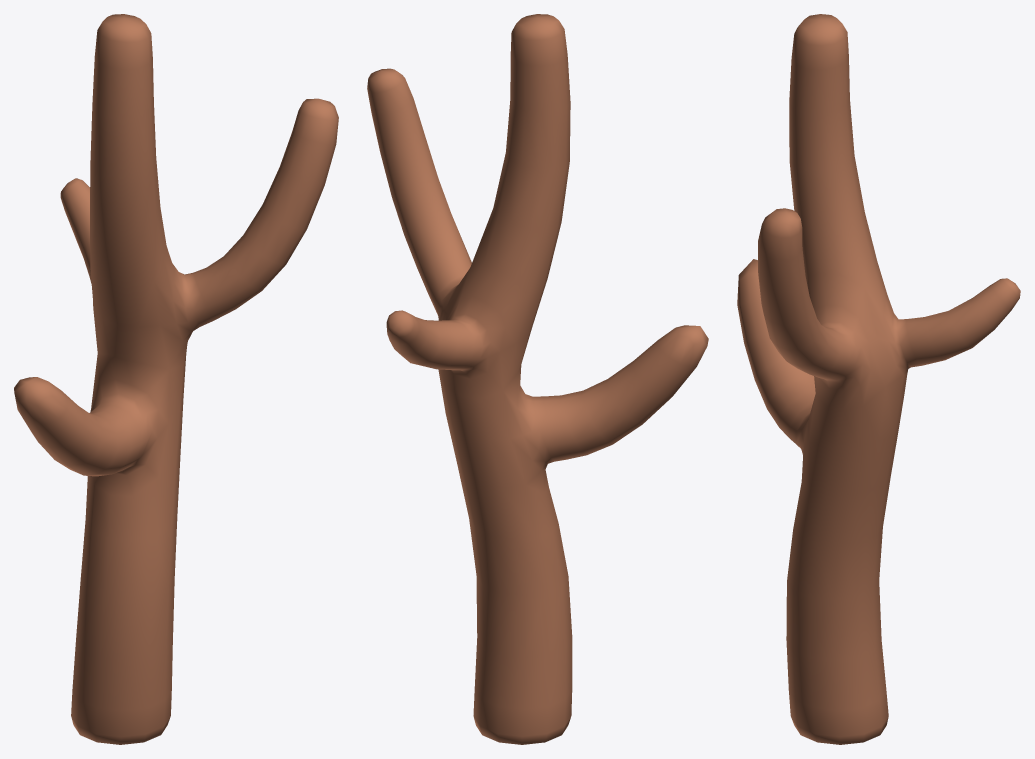
Rendered from Tree_Btm_A_02.fbx.
3 renders of one model, left to right at view 1: azimuth 30°, elevation 25°; view 2: azimuth 150°, elevation 25°; view 3: azimuth 270°, elevation 25°, orthographic.
Parts seen in each view (by area): view 1: Tree_Btm_A_02_LOD0; view 2: Tree_Btm_A_02_LOD0; view 3: Tree_Btm_A_02_LOD0.
Part boxes in pixels (bbox=[...]): Tree_Btm_A_02_LOD0: bbox=[14, 14, 338, 744]; Tree_Btm_A_02_LOD0: bbox=[367, 14, 708, 744]; Tree_Btm_A_02_LOD0: bbox=[737, 14, 1020, 744].
Size of what is drawn, in the model's own units: 424 by 881 by 321.
